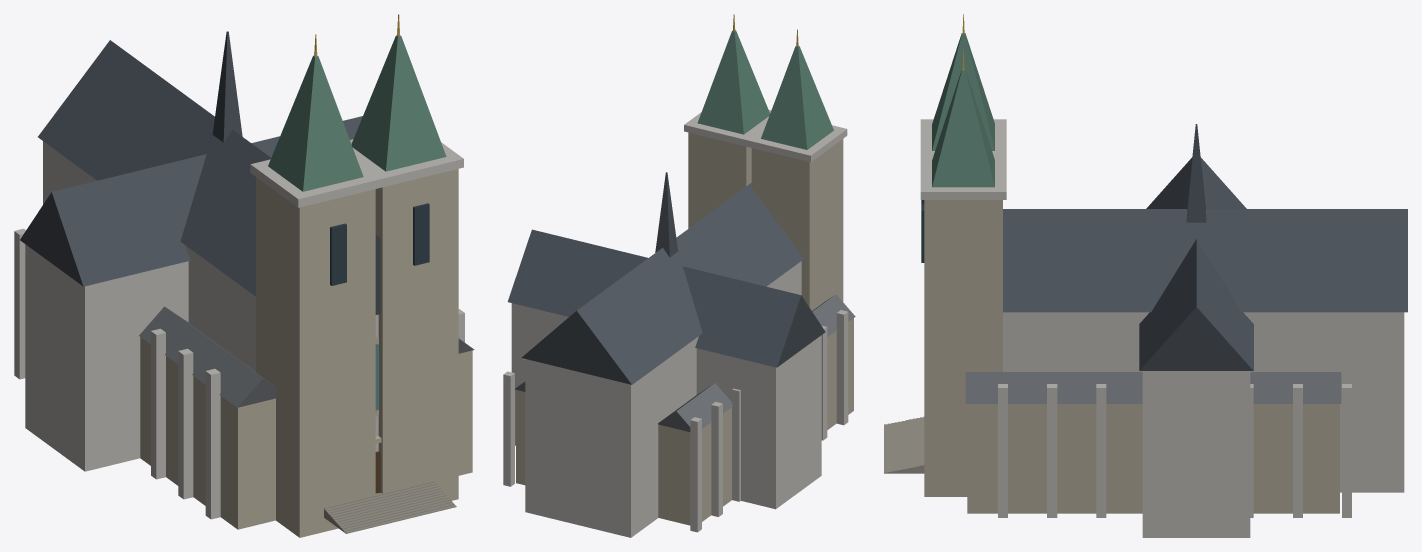
The model's file is desktop.glb.
The picture shows the model from 3 angles, left to right: view 1: azimuth 30°, elevation 25°; view 2: azimuth 150°, elevation 25°; view 3: azimuth 270°, elevation 25°; orthographic projection. The views are drawn at different scales.
Parts seen in each view (by area): view 1: lm.grace-cathedral; view 2: lm.grace-cathedral; view 3: lm.grace-cathedral.
Part boxes in pixels (left/top/right/bottom): lm.grace-cathedral: left=14, top=14, right=474, bottom=537; lm.grace-cathedral: left=503, top=14, right=855, bottom=537; lm.grace-cathedral: left=884, top=14, right=1407, bottom=537.
Size of the model in its own units: 51 by 66.2 by 73.1.
